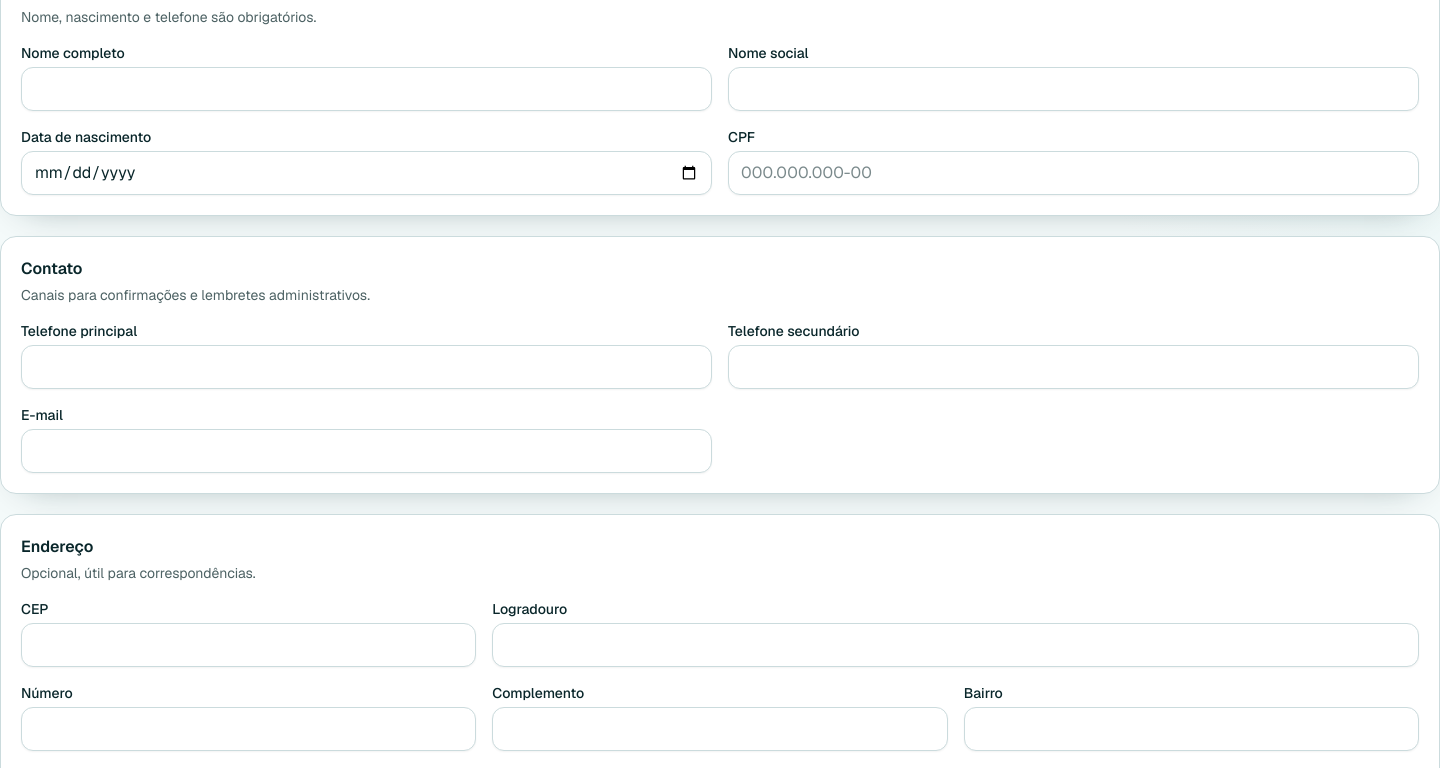
Test: PatientForm › maps duplicate CPF to a conflict message
This screenshot has width=1440, height=768.
Type "Ana Souza" into the field labelled "Nome completo".
click(366, 89); type("Ana Souza")  # box [21,67,712,111]
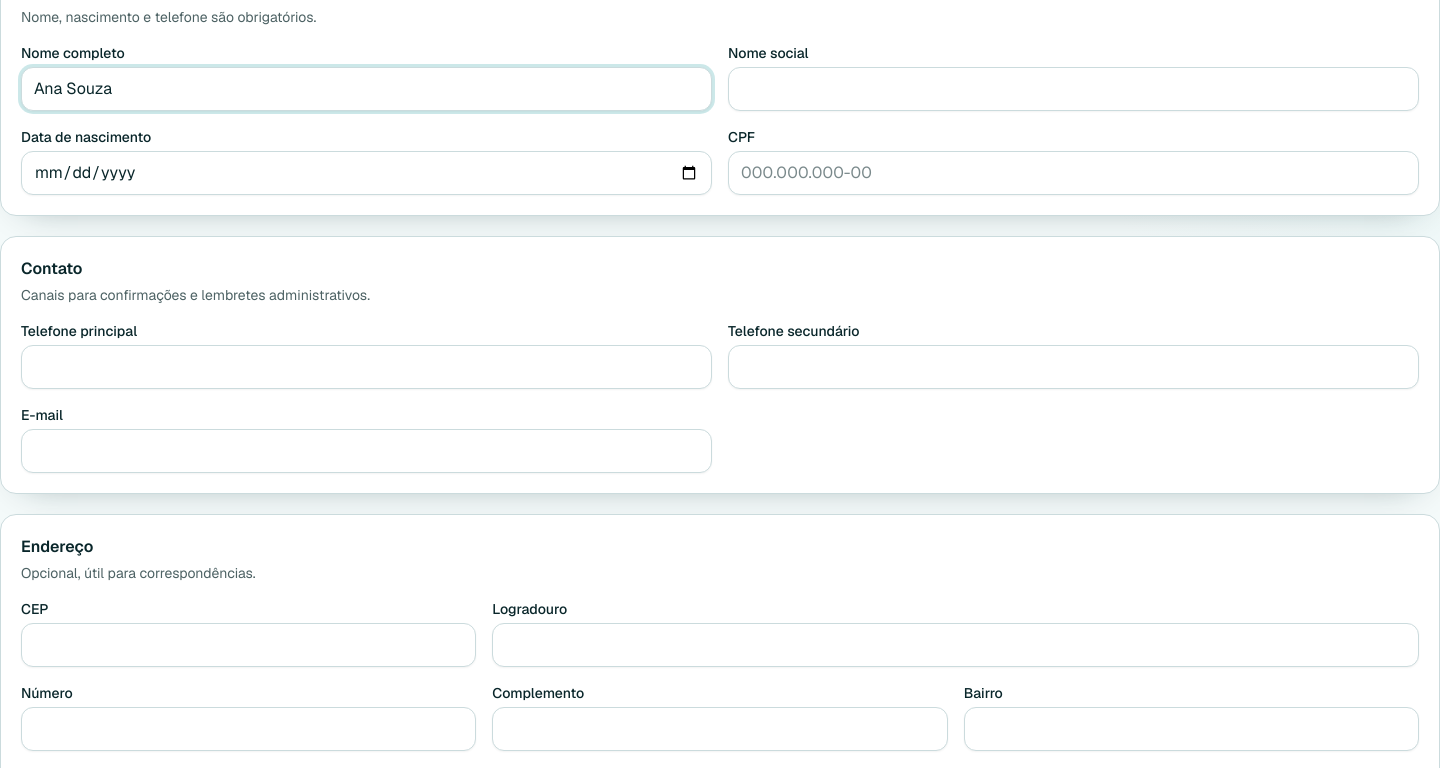
Type "1990-05-06" into the date field labelled "Data de nascimento".
click(366, 173); type("1990-05-06")  # box [21,151,712,195]
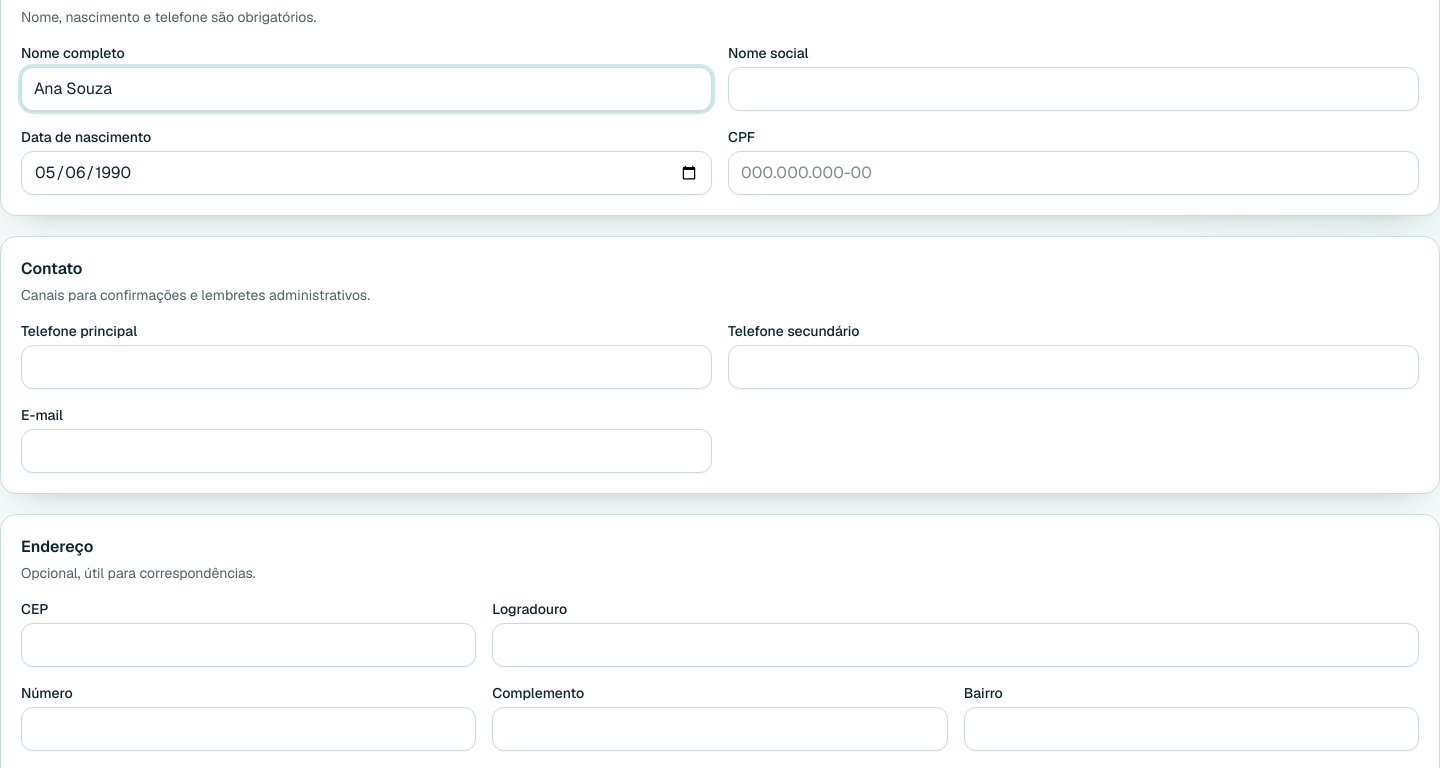
Type "+5571999112222" into the field labelled "Telefone principal".
click(366, 367); type("+5571999112222")  # box [21,345,712,389]
(page scrolled)
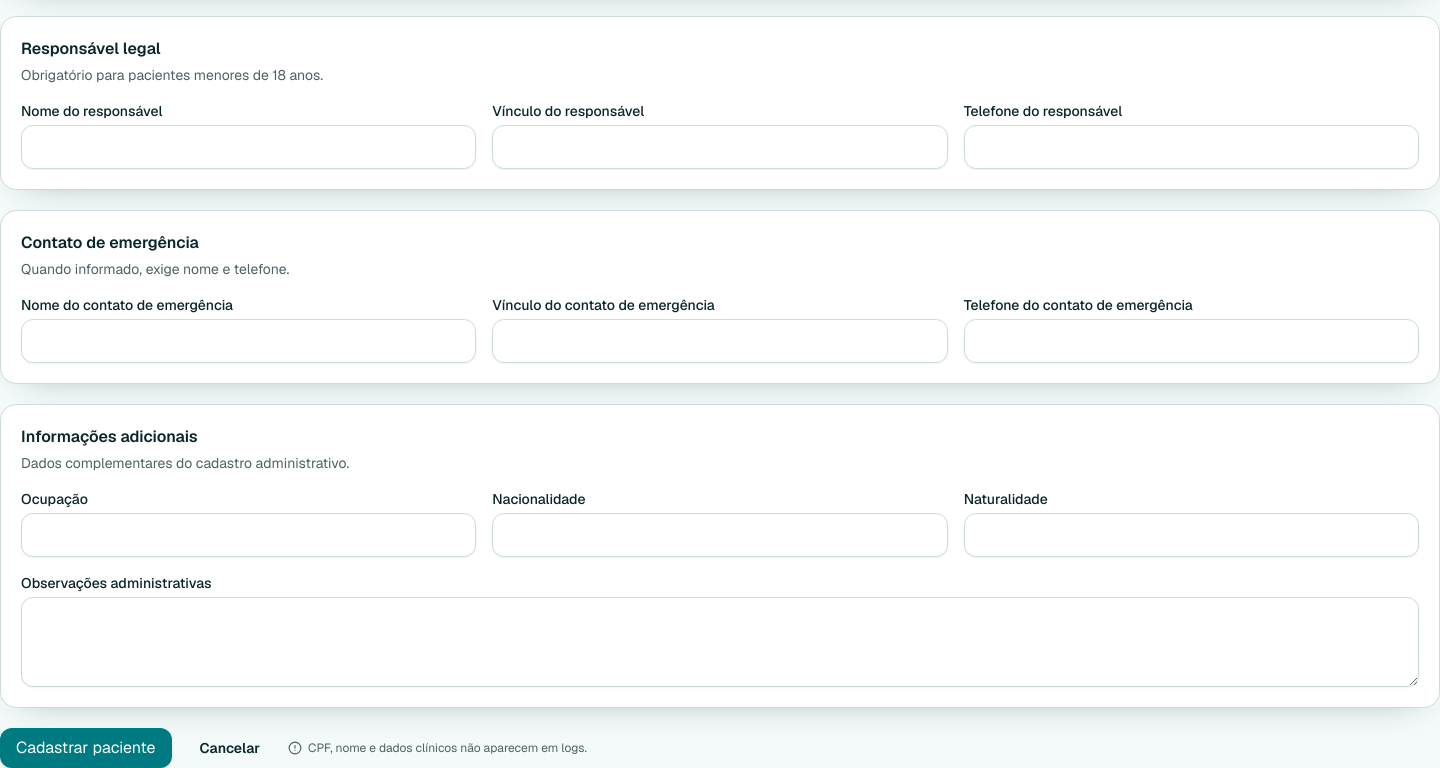
Click the button "Cadastrar paciente".
click(86, 748)  # box [0,728,172,767]
(page scrolled)
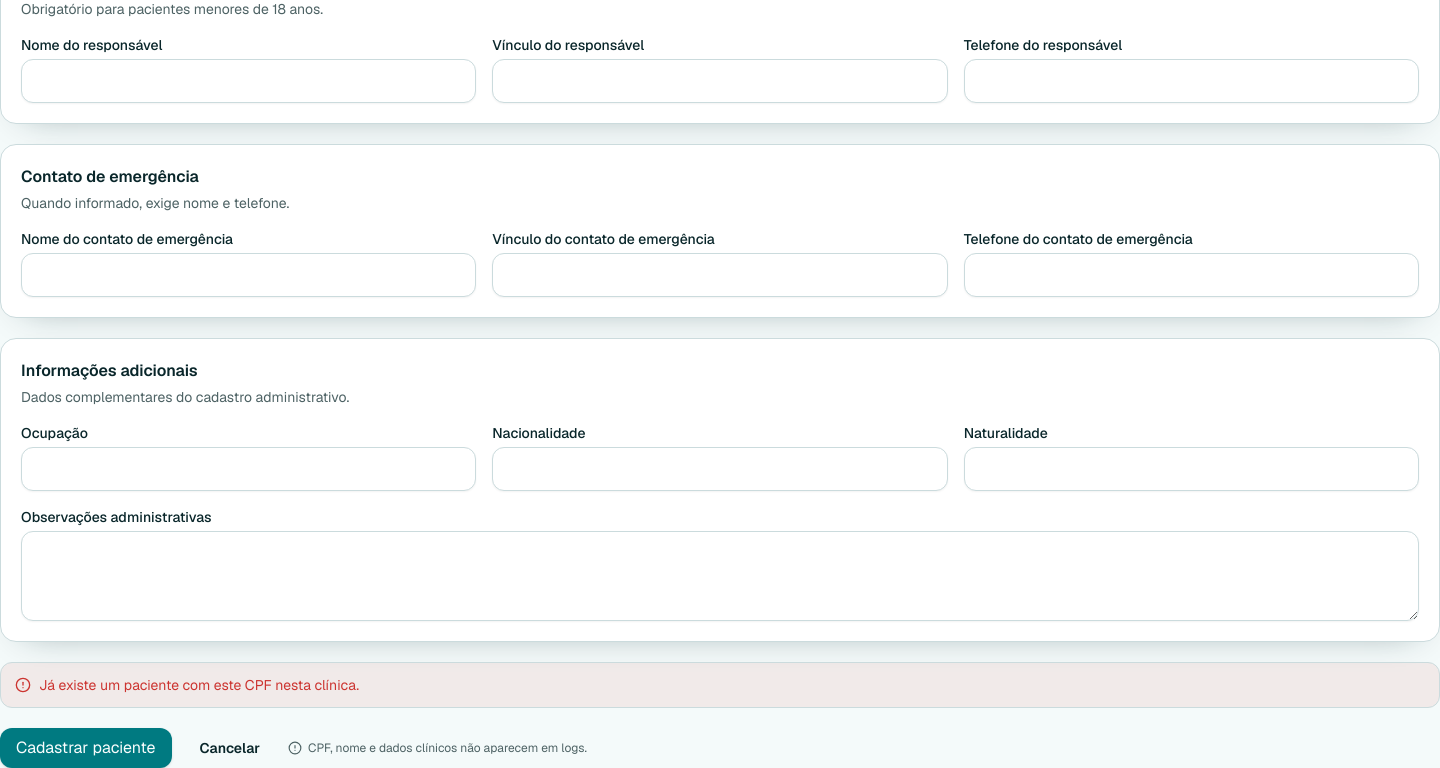
Expected: the message reads "Já existe um paciente com este CPF nesta clínica.", [39,676,359,694]
